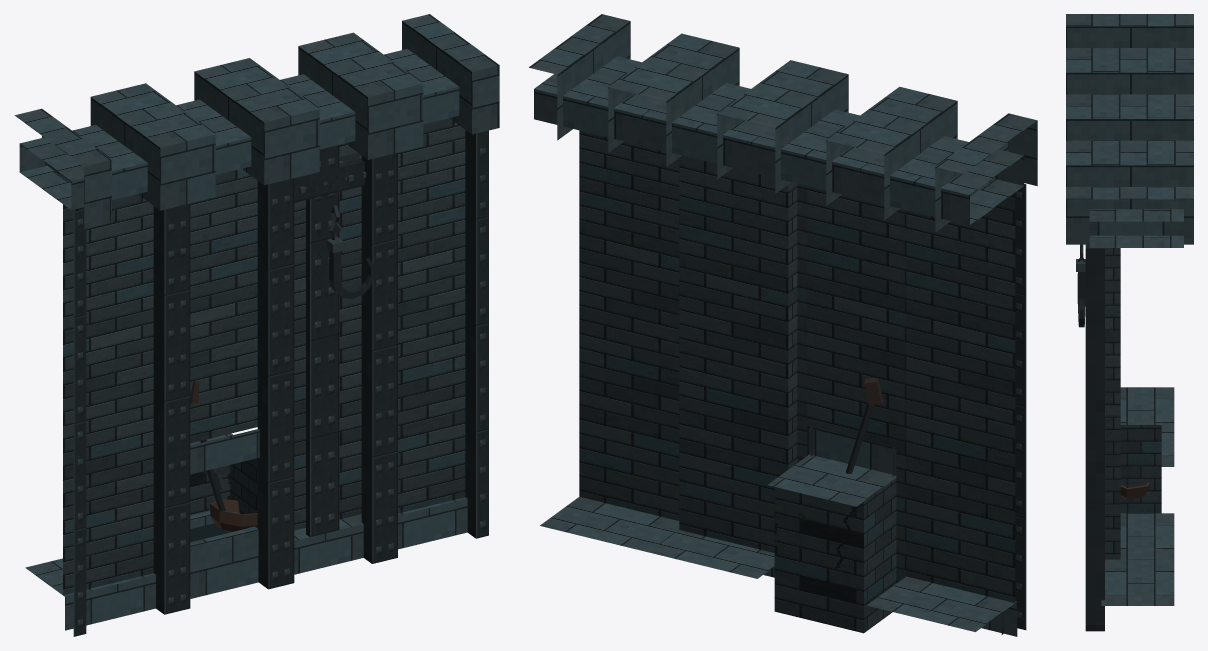
Rendered from T1_Start_C.fbx.
3 renders of one model, left to right at view 1: azimuth 30°, elevation 25°; view 2: azimuth 150°, elevation 25°; view 3: azimuth 270°, elevation 25°, orthographic. The views are drawn at different scales.
Visible parts, largest first — view 1: T1_Start_C; view 2: T1_Start_C; view 3: T1_Start_C.
Boxes of the visible parts, x1,y1,x2,y2 form: T1_Start_C: (14, 14, 499, 636); T1_Start_C: (529, 14, 1037, 636); T1_Start_C: (1066, 14, 1193, 631).
Size of the model in its own units: 4.5 by 4.95 by 1.31.
